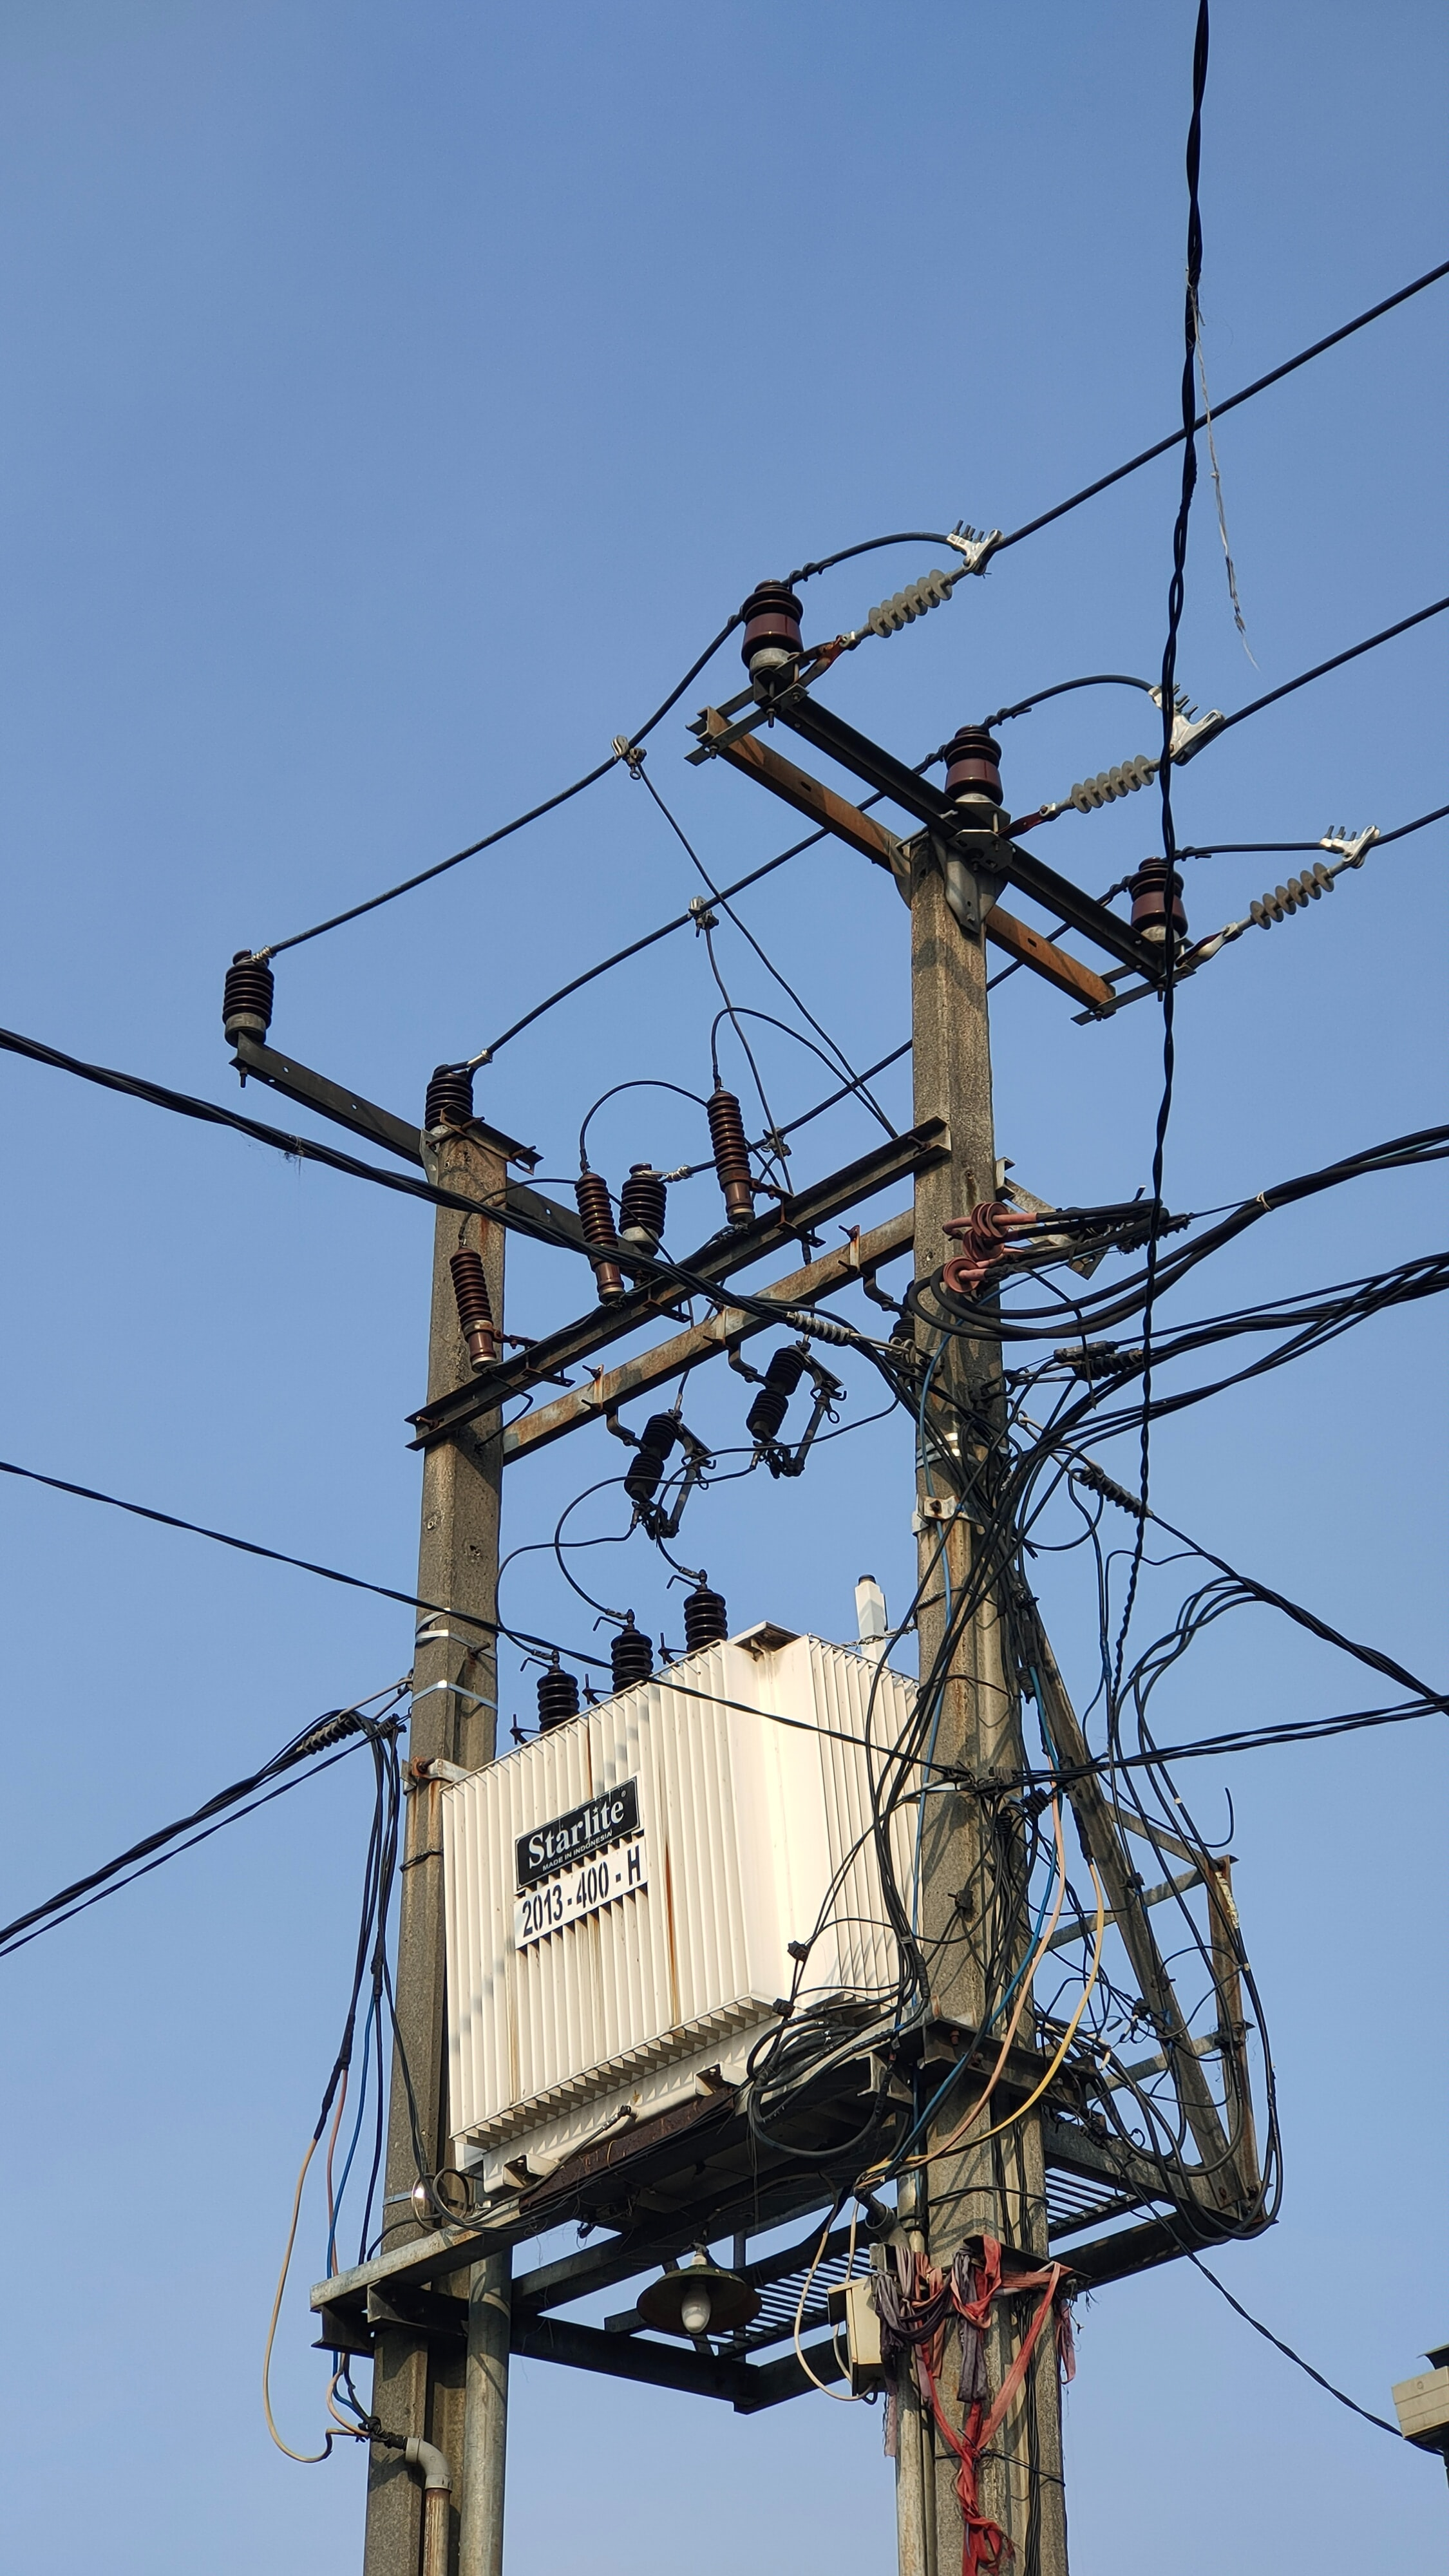utility_pole: (131, 494, 1345, 2489)
